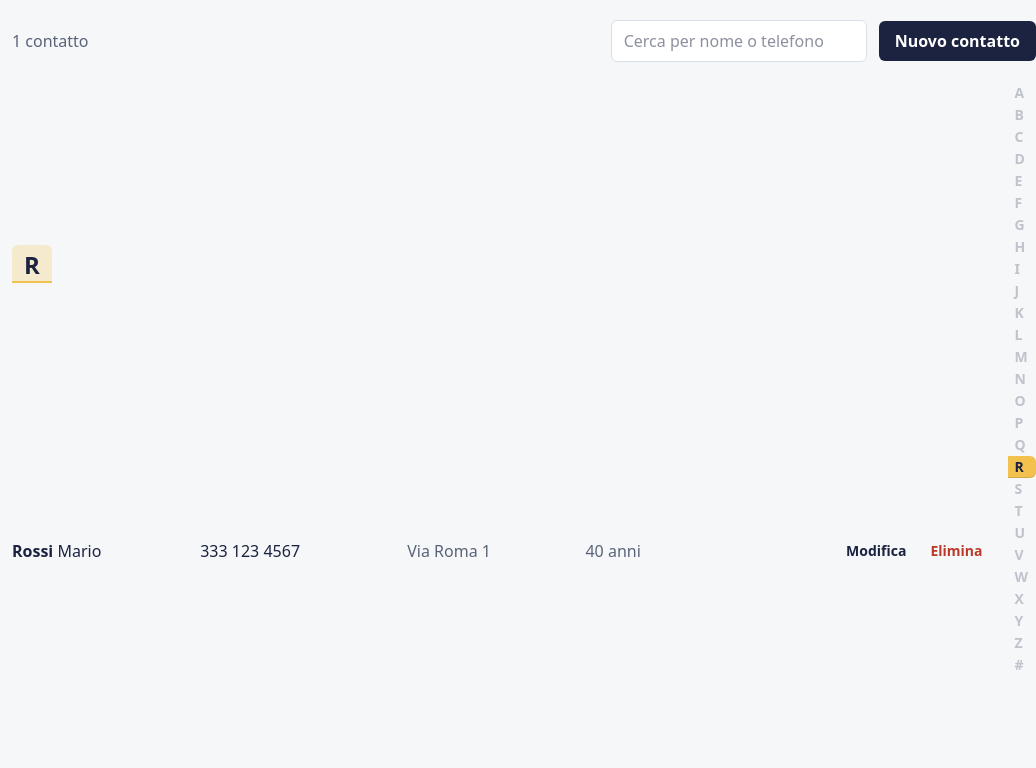
Test: ListaContatti › elimina dopo conferma e rimuove la riga
The image size is (1036, 768).
Click the button with aria-label "Elimina Mario Rossi" at (956, 551), box [920,537,992,565]
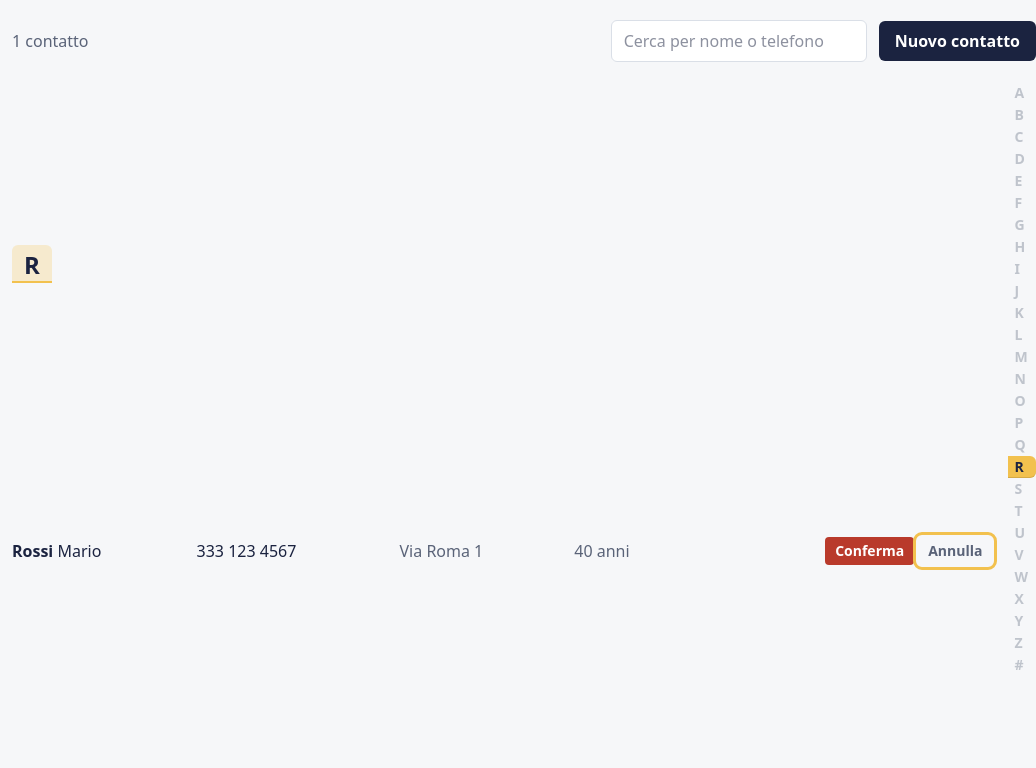
Click the button with aria-label "Conferma eliminazione di Mario Rossi" at (870, 551), box [825,537,914,565]
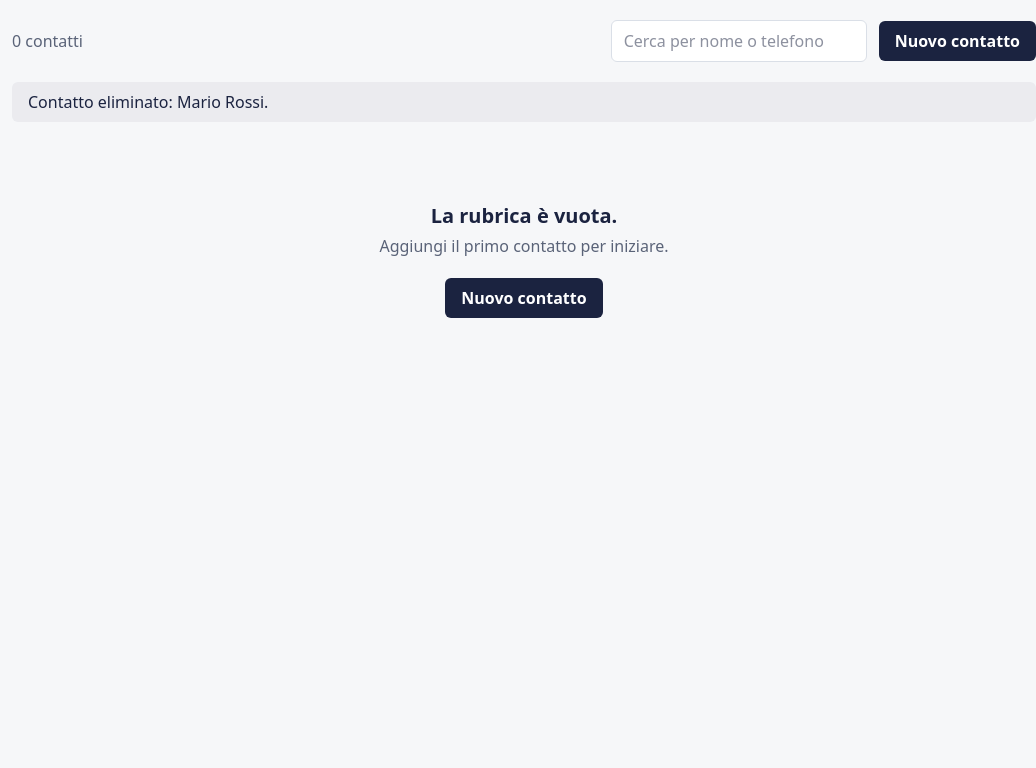
Result: the message reads "Contatto eliminato: Mario Rossi." at [28,91,268,113]
